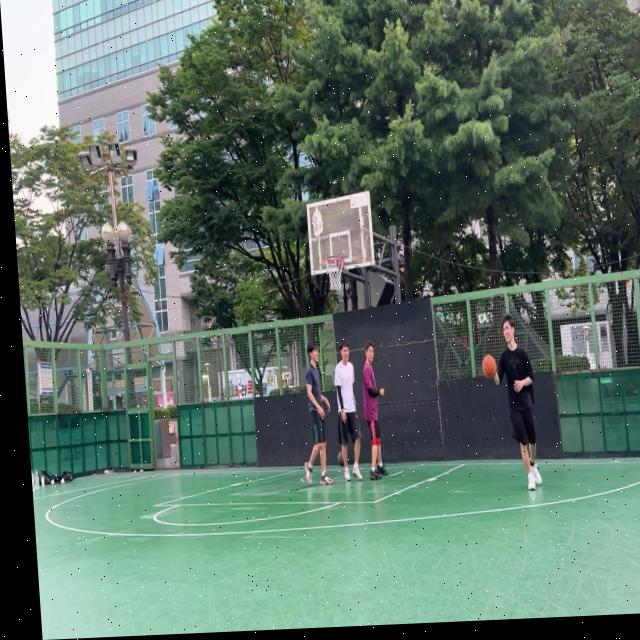basketball: (481, 354, 497, 380), (337, 450, 345, 466)
hoop: (324, 255, 346, 292)
